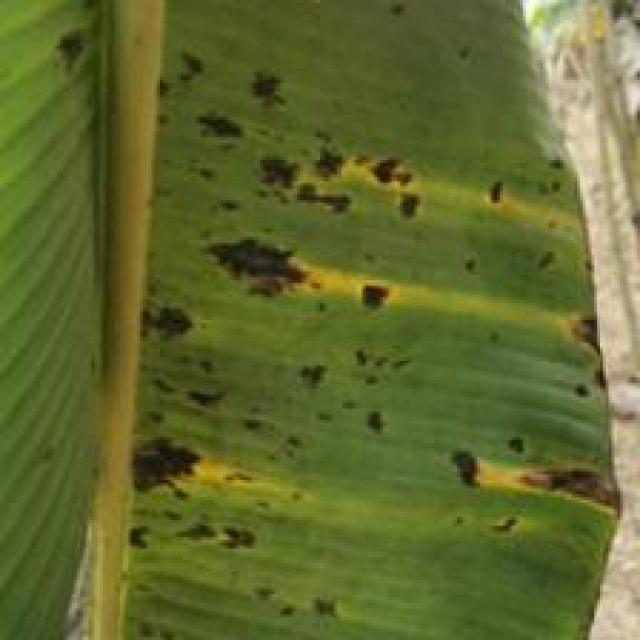Downey_mildrew: (125, 20, 640, 637), (53, 3, 93, 90)
